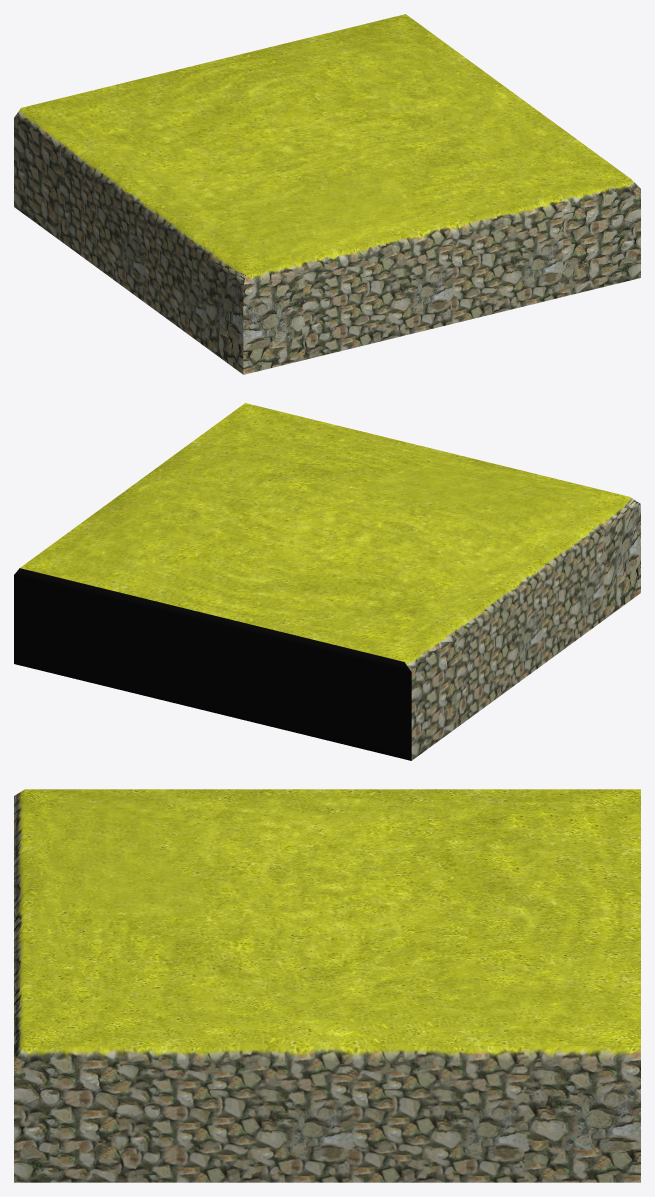
File: Terrace_Tri_01.fbx
3 renders of one model, top to bottom at view 1: azimuth 30°, elevation 25°; view 2: azimuth 150°, elevation 25°; view 3: azimuth 270°, elevation 25°, orthographic. The views are drawn at different scales.
Visible parts, largest first — view 1: pCube7; view 2: pCube7; view 3: pCube7.
Part boxes in pixels (x1=…): pCube7: x1=14, y1=14, x2=640, y2=374; pCube7: x1=14, y1=403, x2=640, y2=760; pCube7: x1=14, y1=789, x2=640, y2=1182.
Size of the model in its own units: 14.14 by 3.6 by 14.14.
